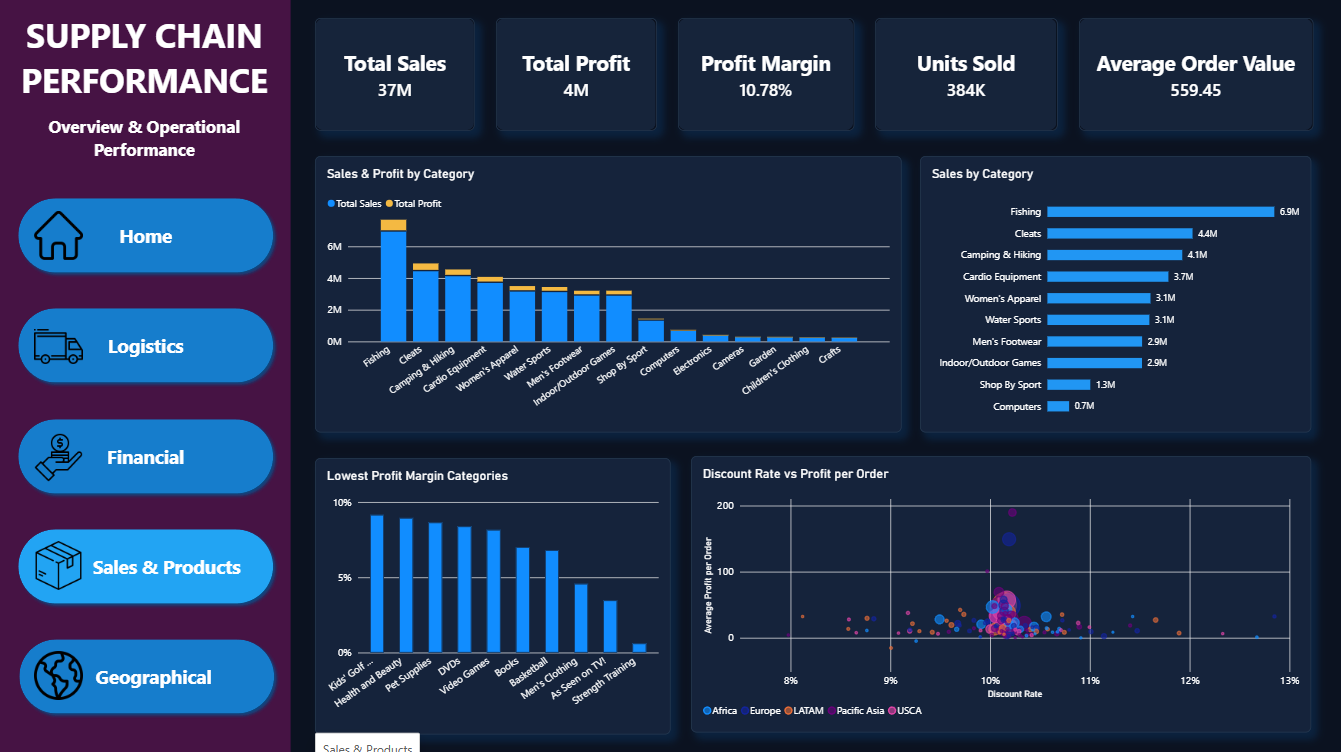

This screenshot's page, from the dashboard's own definition file:
{"tool":"powerbi","page":{"name":"Sales & Products","canvas":[1920,1080],"ordinal":3},"visuals":[{"type":"shape","box":[0,0,1920,1080],"z":0},{"type":"shape","box":[0,0,418,1080],"z":1000},{"type":"cardVisual","title":"Total Orders","fields":{"Data":["Medidas.Total Sales"]},"box":[452.4,27.1,228,161.1],"z":2000},{"type":"shape","box":[20,433.5,382,124],"z":2000,"group":"g1"},{"type":"shape","box":[20,591,382,124],"z":2000,"group":"g2"},{"type":"cardVisual","title":"Total Orders","fields":{"Data":["Medidas.Total Profit"]},"box":[710.7,27.1,229.8,161.1],"z":3000},{"type":"shape","box":[20,275.5,382,124],"z":3000,"group":"g5"},{"type":"shape","box":[20,748.5,382,124],"z":3000,"group":"g3"},{"type":"cardVisual","title":"Total Orders","fields":{"Data":["Medidas.Profit Margin"]},"box":[970.9,27.1,251.5,161.1],"z":4000},{"type":"shape","box":[22,906,382,124],"z":4000,"group":"g4"},{"type":"cardVisual","title":"Total Orders","fields":{"Data":["Medidas.Units Sold"]},"box":[1252.7,27.1,260.6,161.1],"z":5000},{"type":"cardVisual","title":"Total Orders","fields":{"Data":["Medidas.Average Order Value"]},"box":[1543.6,27.1,334.8,161.1],"z":6000},{"type":"textbox","box":[0,18,418,230],"z":7000},{"type":"group","id":"g1","title":"Grupo 2","box":[20,433.5,382,124],"z":8000},{"type":"group","id":"g2","title":"Grupo 3","box":[20,591,382,124],"z":9000},{"type":"group","id":"g3","title":"Grupo 4","box":[20,748.5,382,124],"z":10000},{"type":"image","box":[52,620,70,70],"z":11000,"group":"g2"},{"type":"group","id":"g4","title":"Grupo 5","box":[22,906,382,124],"z":11000},{"type":"columnChart","title":"Sales & Profit by Category","fields":{"Category":["DataCoSupplyChainDataset.Category Name"],"Y":["Medidas.Total Sales","Medidas.Total Profit"]},"box":[452.4,224.4,837.9,395],"z":12000},{"type":"image","box":[52,302.5,70,70],"z":12000,"group":"g5"},{"type":"image","box":[52,462,70,70],"z":12000,"group":"g1"},{"type":"image","box":[52,932,70,70],"z":12000,"group":"g4"},{"type":"clusteredBarChart","title":"Sales by Category","fields":{"Category":["DataCoSupplyChainDataset.Category Name"],"Y":["Medidas.Total Sales"]},"box":[1317.4,224.4,559.2,395],"z":13000},{"type":"image","box":[52,774,70,70],"z":13000,"group":"g3"},{"type":"columnChart","title":"Lowest Profit Margin Categories","fields":{"Category":["DataCoSupplyChainDataset.Category Name"],"Y":["Medidas.Profit Margin"]},"box":[452.4,655.1,508,395],"z":14000},{"type":"scatterChart","title":"Discount Rate vs Profit per Order","fields":{"Category":["DataCoSupplyChainDataset.Category Name"],"Series":["DataCoSupplyChainDataset.Market"],"Size":["Medidas.Total Sales"],"X":["Medidas.Discount Rate"],"Y":["Medidas.Average Profit per Order"]},"box":[989.9,653.3,886,395],"z":15000},{"type":"group","id":"g5","title":"Grupo 1","box":[20,275.5,382,124],"z":16000}]}

Visuals, with their boxes in screenshot pixels (x1, y1, x2, y2), scaled from the page's 1920x1080 canvas onto the 1341x752 screenshot:
shape: pyautogui.locateOnScreen(0, 0, 1340, 751)
shape: pyautogui.locateOnScreen(0, 0, 292, 751)
"Total Orders" cardVisual: pyautogui.locateOnScreen(316, 19, 475, 131)
shape: pyautogui.locateOnScreen(14, 302, 281, 388)
shape: pyautogui.locateOnScreen(14, 412, 281, 498)
"Total Orders" cardVisual: pyautogui.locateOnScreen(496, 19, 657, 131)
shape: pyautogui.locateOnScreen(14, 192, 281, 278)
shape: pyautogui.locateOnScreen(14, 521, 281, 608)
"Total Orders" cardVisual: pyautogui.locateOnScreen(678, 19, 854, 131)
shape: pyautogui.locateOnScreen(15, 631, 282, 717)
"Total Orders" cardVisual: pyautogui.locateOnScreen(875, 19, 1057, 131)
"Total Orders" cardVisual: pyautogui.locateOnScreen(1078, 19, 1312, 131)
textbox: pyautogui.locateOnScreen(0, 13, 292, 173)
"Grupo 2" group: pyautogui.locateOnScreen(14, 302, 281, 388)
"Grupo 3" group: pyautogui.locateOnScreen(14, 412, 281, 498)
"Grupo 4" group: pyautogui.locateOnScreen(14, 521, 281, 608)
image: pyautogui.locateOnScreen(36, 432, 85, 480)
"Grupo 5" group: pyautogui.locateOnScreen(15, 631, 282, 717)
"Sales & Profit by Category" columnChart: pyautogui.locateOnScreen(316, 156, 901, 431)
image: pyautogui.locateOnScreen(36, 211, 85, 259)
image: pyautogui.locateOnScreen(36, 322, 85, 370)
image: pyautogui.locateOnScreen(36, 649, 85, 698)
"Sales by Category" clusteredBarChart: pyautogui.locateOnScreen(920, 156, 1311, 431)
image: pyautogui.locateOnScreen(36, 539, 85, 588)
"Lowest Profit Margin Categories" columnChart: pyautogui.locateOnScreen(316, 456, 671, 731)
"Discount Rate vs Profit per Order" scatterChart: pyautogui.locateOnScreen(691, 455, 1310, 730)
"Grupo 1" group: pyautogui.locateOnScreen(14, 192, 281, 278)
